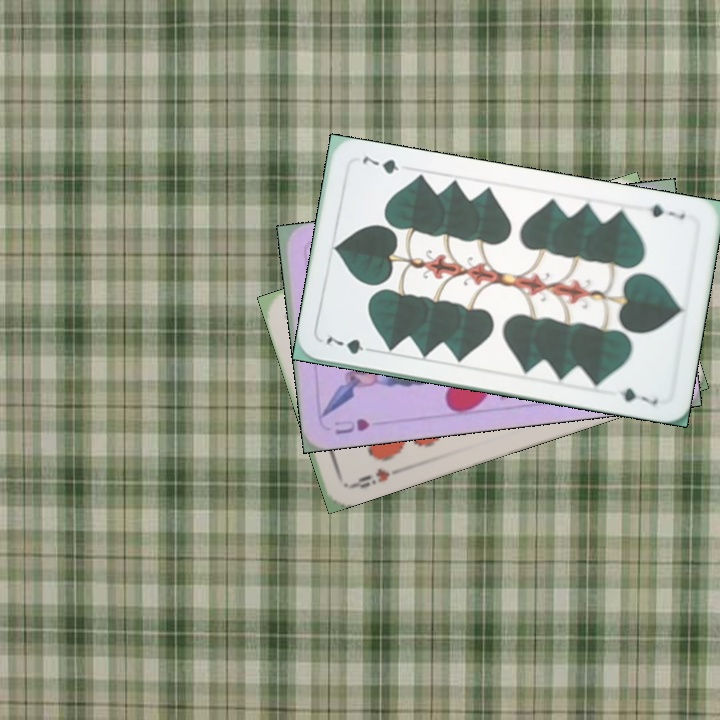G7: (322, 333, 379, 357), (638, 200, 688, 222)
H9: (345, 464, 393, 491)
HU: (330, 414, 372, 437)
